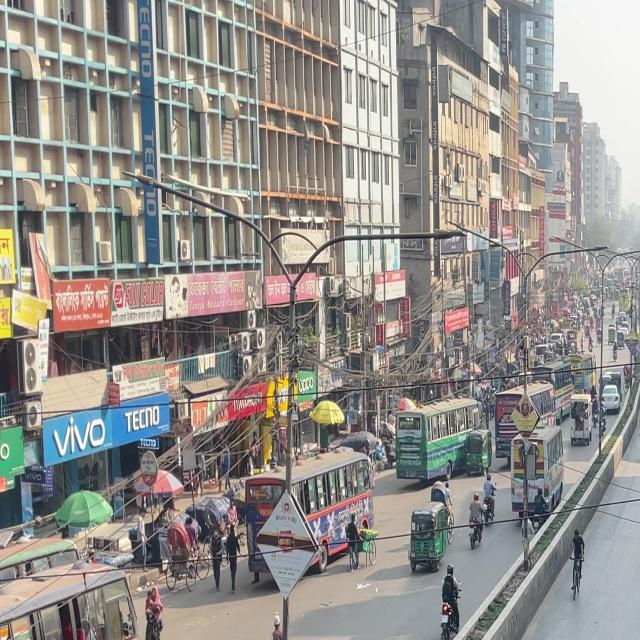bicycle: (564, 520, 588, 603)
bus: (242, 449, 378, 583), (2, 537, 140, 640), (399, 405, 491, 486)
